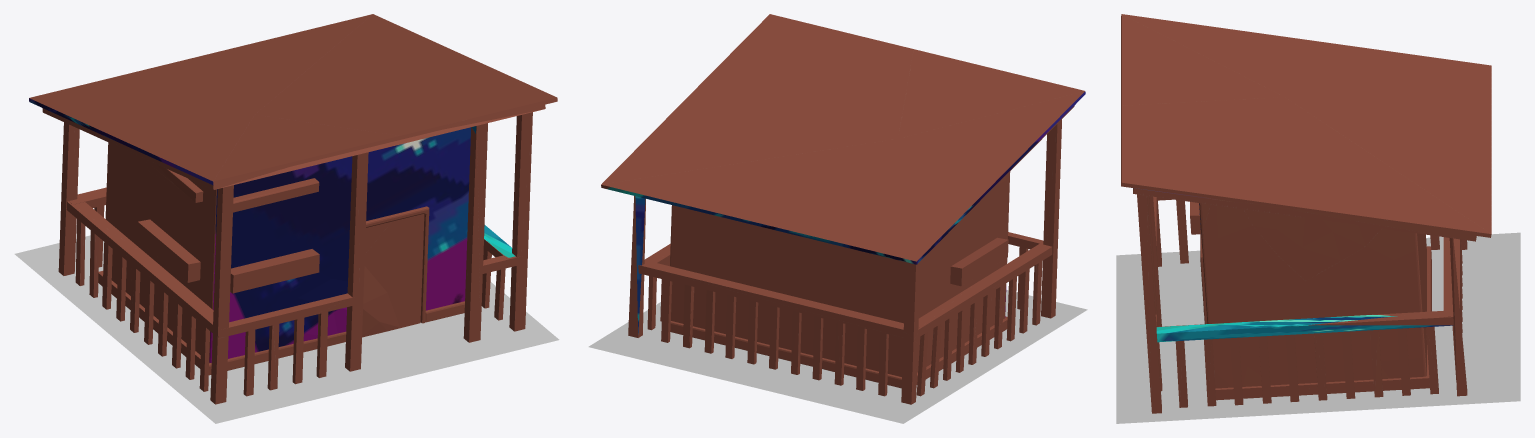
Rendered from casa.fbx.
3 renders of one model, left to right at view 1: azimuth 30°, elevation 25°; view 2: azimuth 150°, elevation 25°; view 3: azimuth 270°, elevation 25°, orthographic. The views are drawn at different scales.
Visible parts, largest first — view 1: casa_junto; view 2: casa_junto; view 3: casa_junto.
Boxes of the visible parts, <box> form: casa_junto: <box>14,14,559,423</box>; casa_junto: <box>588,14,1087,423</box>; casa_junto: <box>1116,14,1520,423</box>.
Size of the model in its own units: 301 by 201 by 304.
